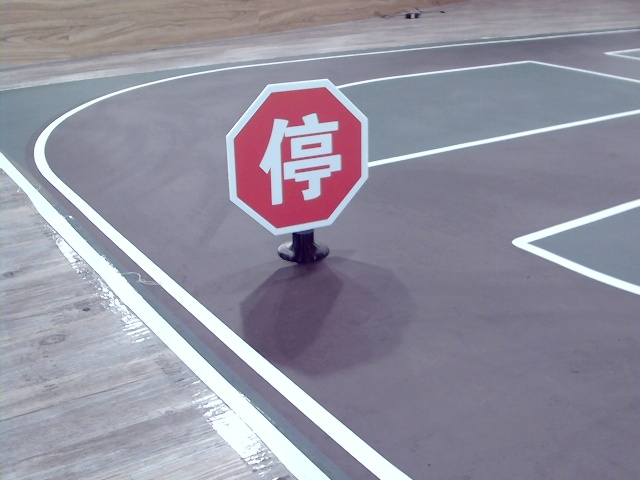stop: (256, 114, 344, 202)
